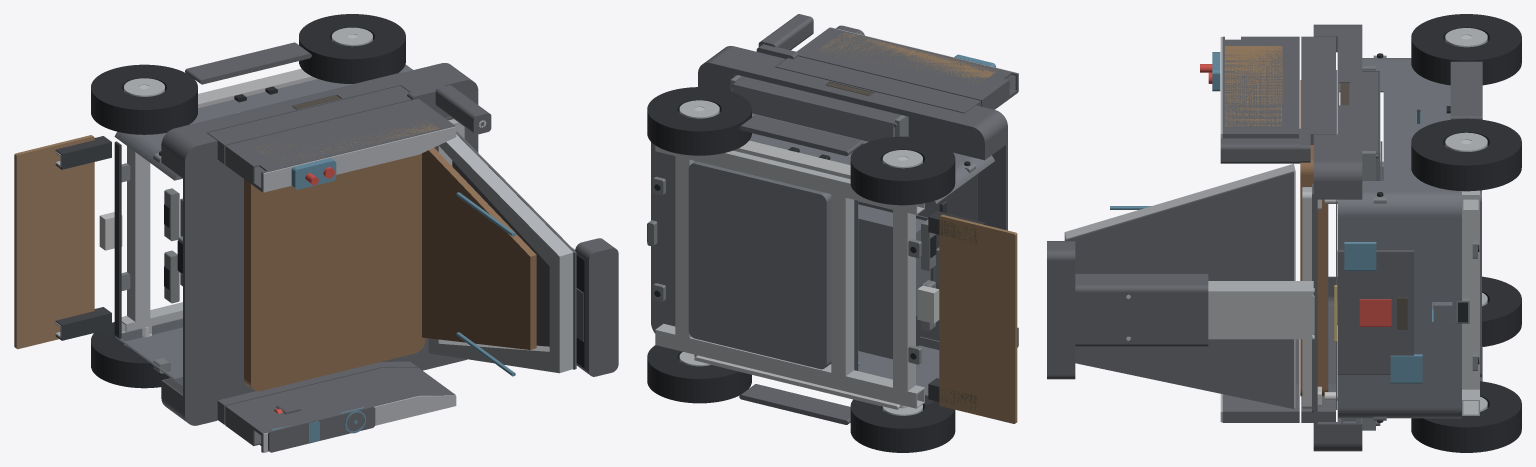
The model's file is workcore_e6_dfr5_ride.glb.
3 renders of one model, left to right at view 1: azimuth 30°, elevation 25°; view 2: azimuth 150°, elevation 25°; view 3: azimuth 270°, elevation 25°, orthographic. The views are drawn at different scales.
Visible parts, largest first — view 1: seat_cushion_envelope, upper_deck_panel, backrest_cushion_envelope, footrest_platform_deployed_locked, backrest_structural_carrier, armrest_shell_right, armrest_shell_left, tyre_front_right, tyre_rear_right, lower_body_enclosure, sensor_beam_shell_stowed, chassis_crossmember_1 (+21 smaller); view 2: battery_safety_cassette, footrest_platform_deployed_locked, upper_deck_panel, lower_body_enclosure, armrest_shell_right, tyre_front_right, tyre_rear_right, chassis_rail_left, chassis_crossmember_2, tyre_front_left, tyre_rear_left, chassis_crossmember_1 (+21 smaller); view 3: backrest_rear_cosmetic_shell, lower_body_enclosure, mast_outer_cosmetic_shroud_stowed, upper_deck_panel, armrest_shell_right, service_rear_flush_door, tyre_rear_right, mast_inner_stowed, tyre_front_right, tyre_rear_left, sensor_beam_shell_stowed, desk_bundle_stowed_right (+17 smaller).
Part boxes in pixels (x1,y1,x2,y2): seat_cushion_envelope: (244, 153, 425, 391); upper_deck_panel: (161, 63, 478, 425); backrest_cushion_envelope: (422, 148, 536, 349); footrest_platform_deployed_locked: (14, 135, 94, 349); backrest_structural_carrier: (428, 134, 573, 373); armrest_shell_right: (225, 99, 455, 192); armrest_shell_left: (225, 367, 455, 452); tyre_front_right: (91, 64, 197, 134); tyre_rear_right: (299, 14, 405, 83); lower_body_enclosure: (114, 64, 412, 385); sensor_beam_shell_stowed: (575, 238, 618, 376); chassis_crossmember_1: (127, 146, 150, 329); battery_safety_cassette: (688, 161, 831, 369); footrest_platform_deployed_locked: (939, 214, 1017, 423); upper_deck_panel: (698, 46, 1007, 230); lower_body_enclosure: (651, 113, 994, 404); armrest_shell_right: (797, 27, 1018, 109); tyre_front_right: (850, 136, 955, 205); tyre_rear_right: (647, 87, 751, 155); chassis_rail_left: (655, 323, 924, 408); chassis_crossmember_2: (831, 187, 854, 383); tyre_front_left: (850, 399, 955, 452); tyre_rear_left: (647, 345, 751, 403); chassis_crossmember_1: (893, 205, 915, 398); backrest_rear_cosmetic_shell: (1064, 171, 1293, 408); lower_body_enclosure: (1338, 58, 1461, 418); mast_outer_cosmetic_shroud_stowed: (1075, 273, 1208, 346); upper_deck_panel: (1313, 24, 1362, 451); armrest_shell_right: (1222, 36, 1299, 138); service_rear_flush_door: (1337, 250, 1413, 374); tyre_rear_right: (1411, 118, 1521, 191); mast_inner_stowed: (1208, 281, 1314, 339); tyre_front_right: (1411, 14, 1521, 85); tyre_rear_left: (1411, 381, 1521, 452); sensor_beam_shell_stowed: (1047, 241, 1075, 379); desk_bundle_stowed_right: (1225, 46, 1282, 126).
Bounding box in the file's own units: 1.06 × 0.735 × 1.07.
